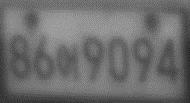0: (106, 36, 130, 83)
4: (156, 36, 181, 85)
6: (34, 36, 56, 79)
8: (9, 32, 31, 80)
9: (131, 36, 154, 85), (82, 36, 105, 84)
어: (57, 43, 80, 83)
